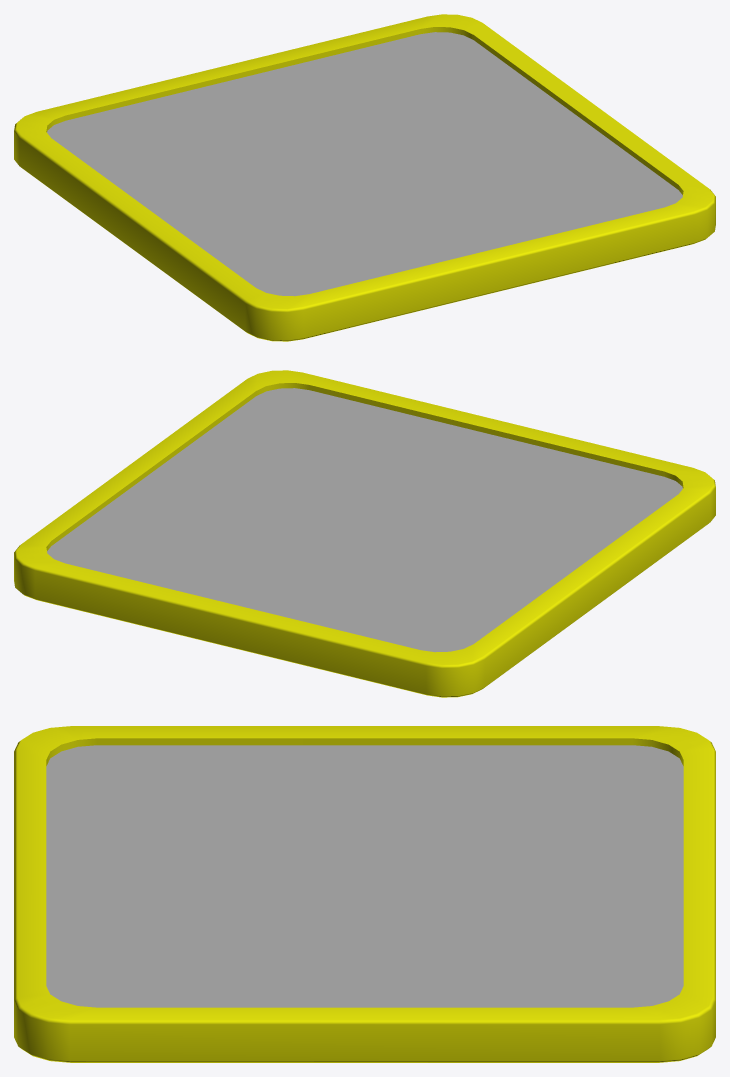
File: Roof3A.fbx
The picture shows the model from 3 angles, top to bottom: view 1: azimuth 30°, elevation 25°; view 2: azimuth 150°, elevation 25°; view 3: azimuth 270°, elevation 25°; orthographic projection. The views are drawn at different scales.
Visible parts, largest first — view 1: Roof3A; view 2: Roof3A; view 3: Roof3A.
Boxes of the visible parts, x1,y1,x2,y2 form: Roof3A: (14, 14, 715, 341); Roof3A: (14, 370, 715, 697); Roof3A: (14, 726, 715, 1062).
Size of the model in its own units: 521 by 35.22 by 521.
